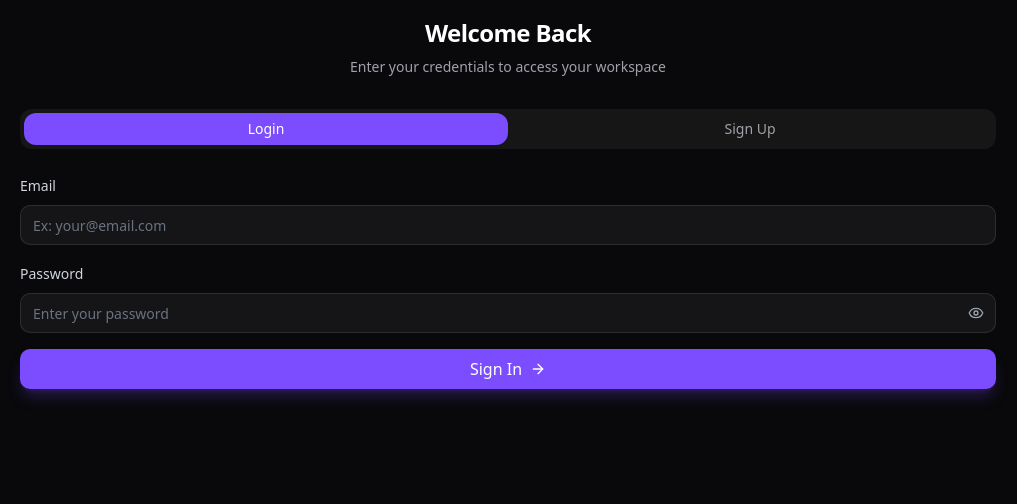
LoginForm › Rendering › renders signup form when tab is switched
This screenshot has width=1017, height=504.
What coordinates should you click on to do the following:
click the tab "Sign Up"
I would click on:
 (750, 129)
Its box is [508, 113, 992, 145].
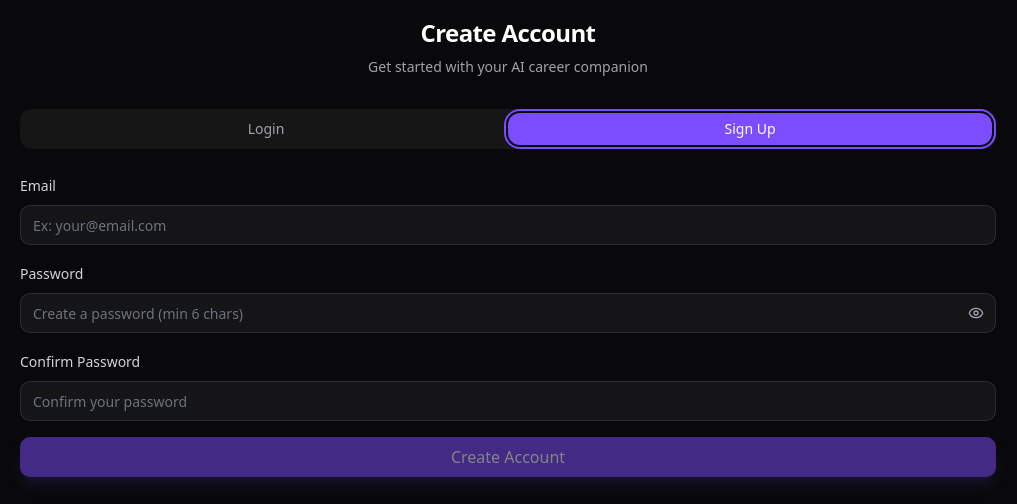
Result: the heading "Create Account" is shown at [421, 16, 596, 49]
Result: the password field with placeholder "Create a password (min 6 chars)" is shown at [20, 293, 996, 333]
